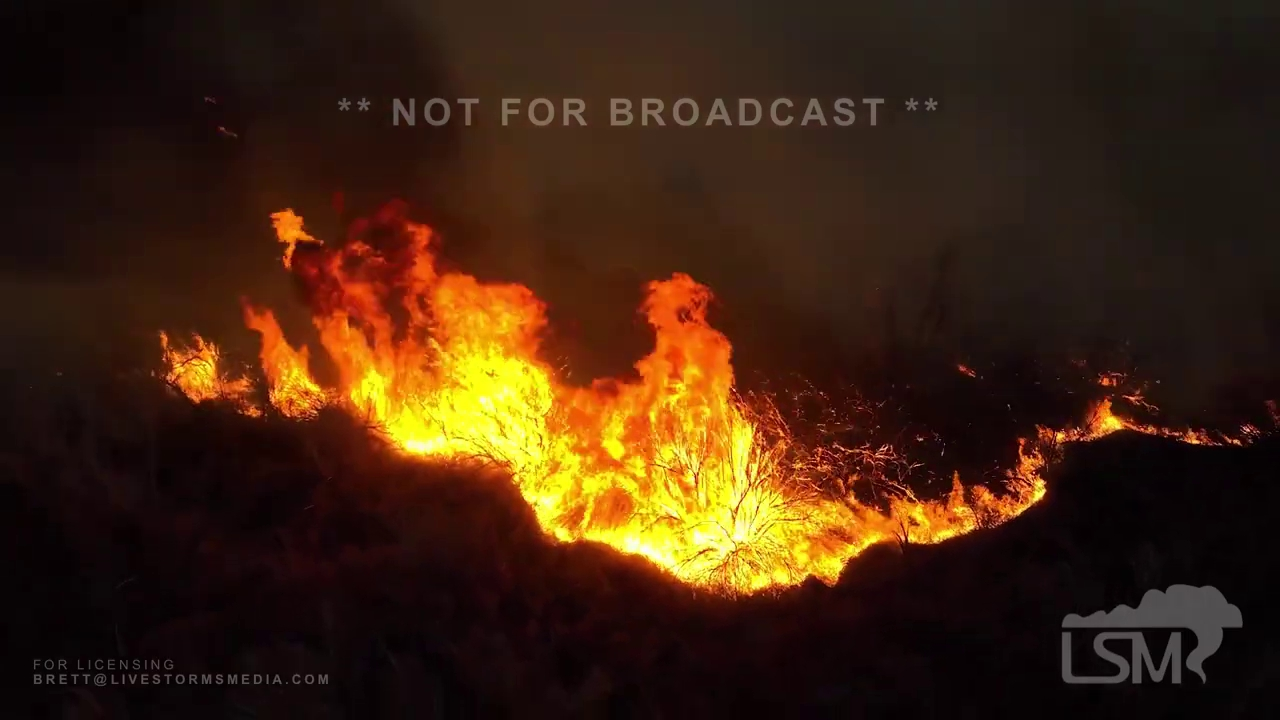forest_fire: (160, 205, 1247, 592), (1100, 377, 1109, 384), (362, 225, 368, 229)
